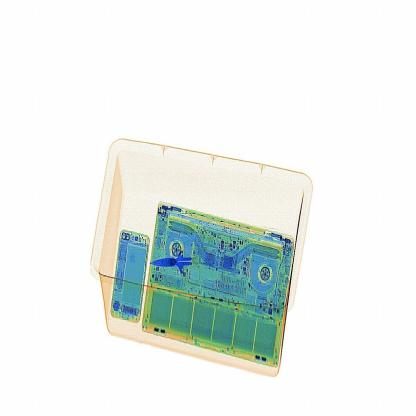gun: (151, 225, 209, 290)
